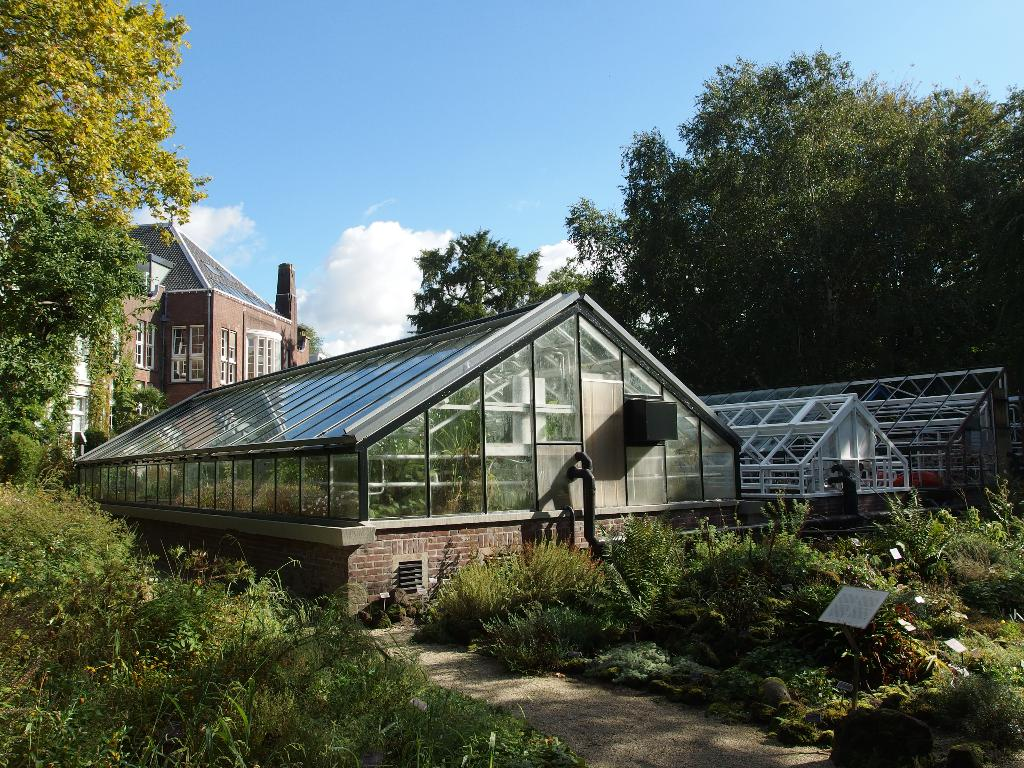Tree: (402, 36, 1024, 381), (0, 0, 212, 490)
